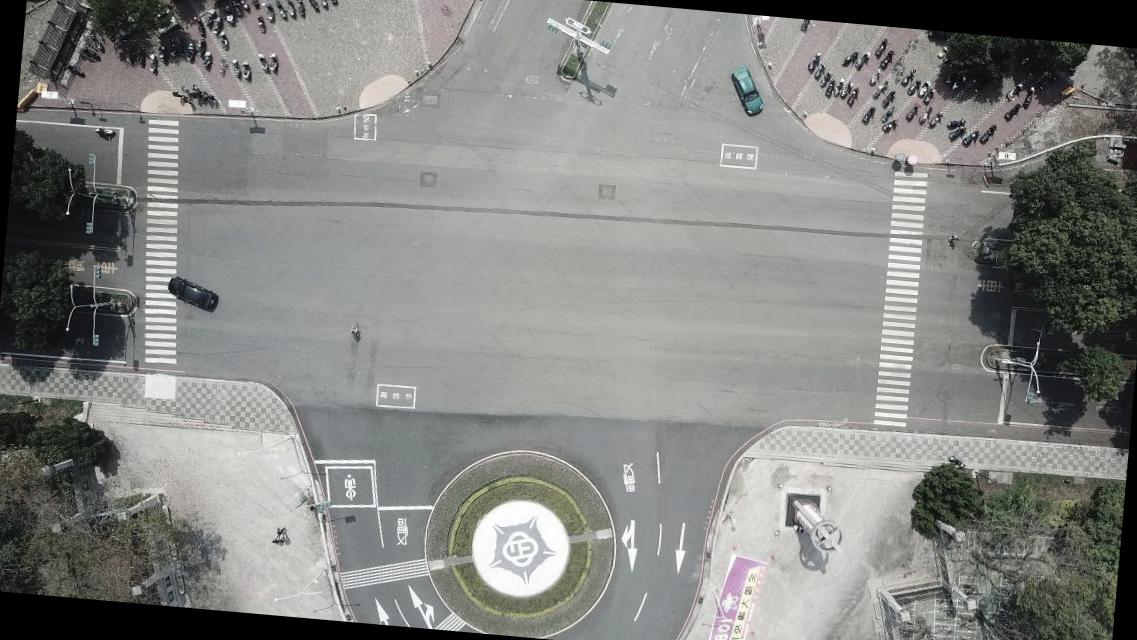vehicle: (725, 64, 768, 119), (164, 274, 220, 314)
